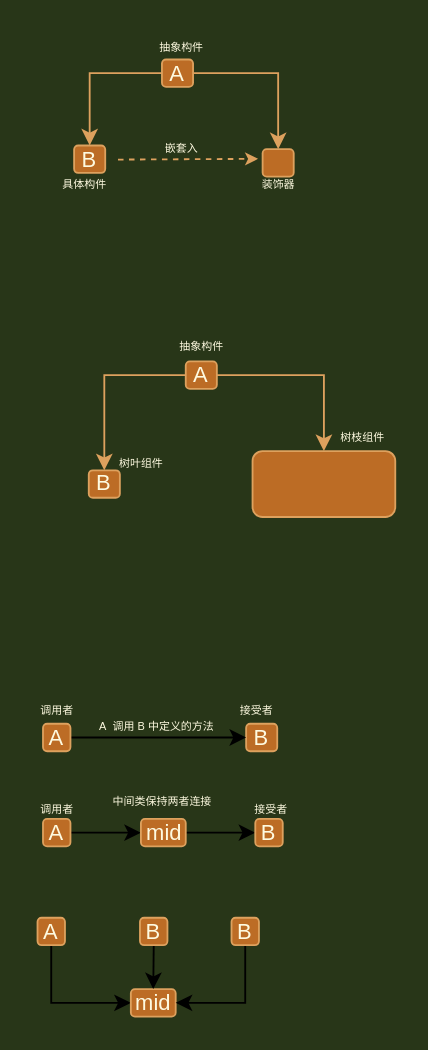
Image size: 428x1050. Some labels were removed from this diagram. The centre of each missing label's shape, as x and y in pixels:
"B1" belongs at (x=277, y=162).
"B1 {A, A, A, ...}" belongs at (x=323, y=483).
